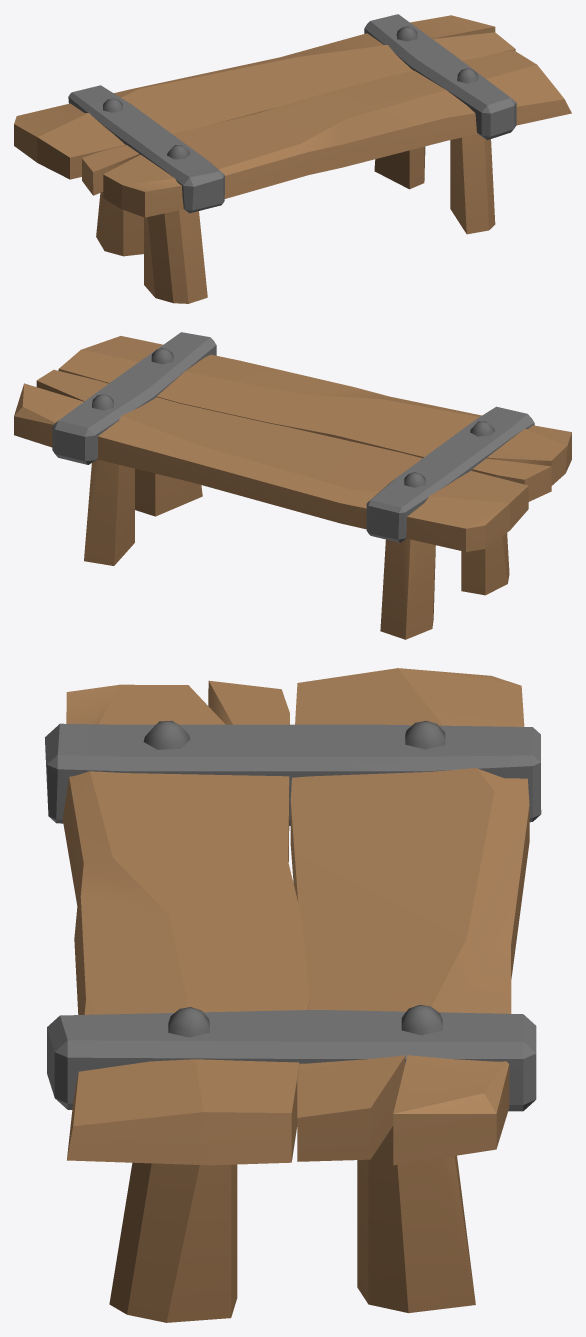
Rendered from Bench_E.fbx.
3 renders of one model, top to bottom at view 1: azimuth 30°, elevation 25°; view 2: azimuth 150°, elevation 25°; view 3: azimuth 270°, elevation 25°, orthographic. The views are drawn at different scales.
Visible parts, largest first — view 1: Bench_E; view 2: Bench_E; view 3: Bench_E.
Part boxes in pixels (x1,y1,x2,y2): Bench_E: [14, 14, 571, 303]; Bench_E: [14, 332, 571, 639]; Bench_E: [45, 668, 541, 1322].
Size of the model in its own units: 174 by 53.55 by 81.89.
